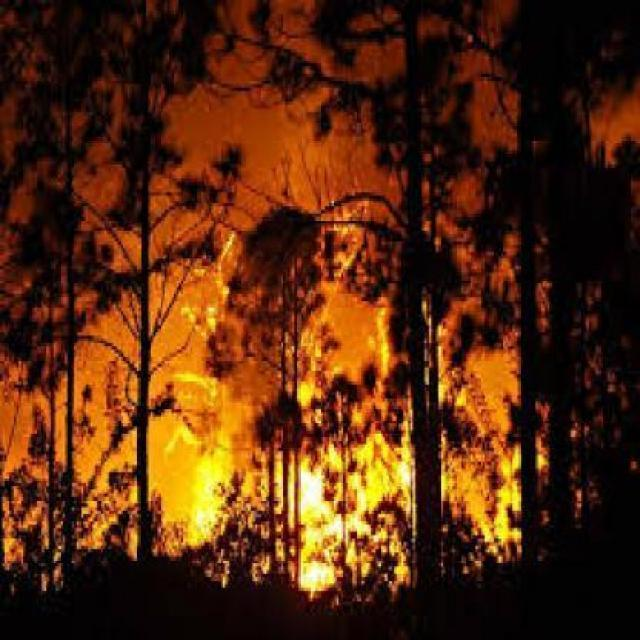Fire: (71, 366, 528, 614)
